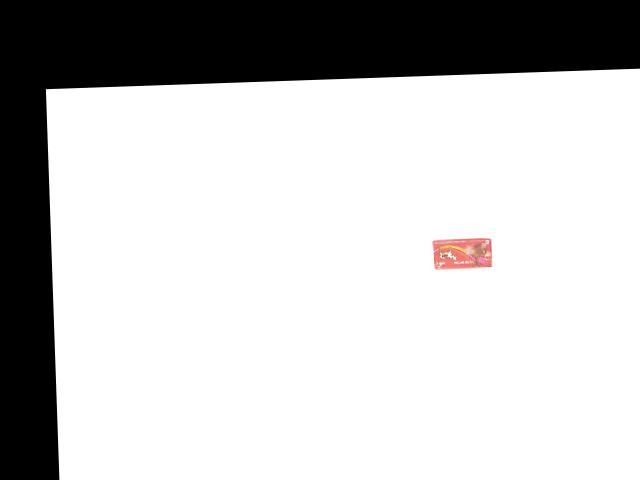chocolate: (429, 235, 493, 269)
